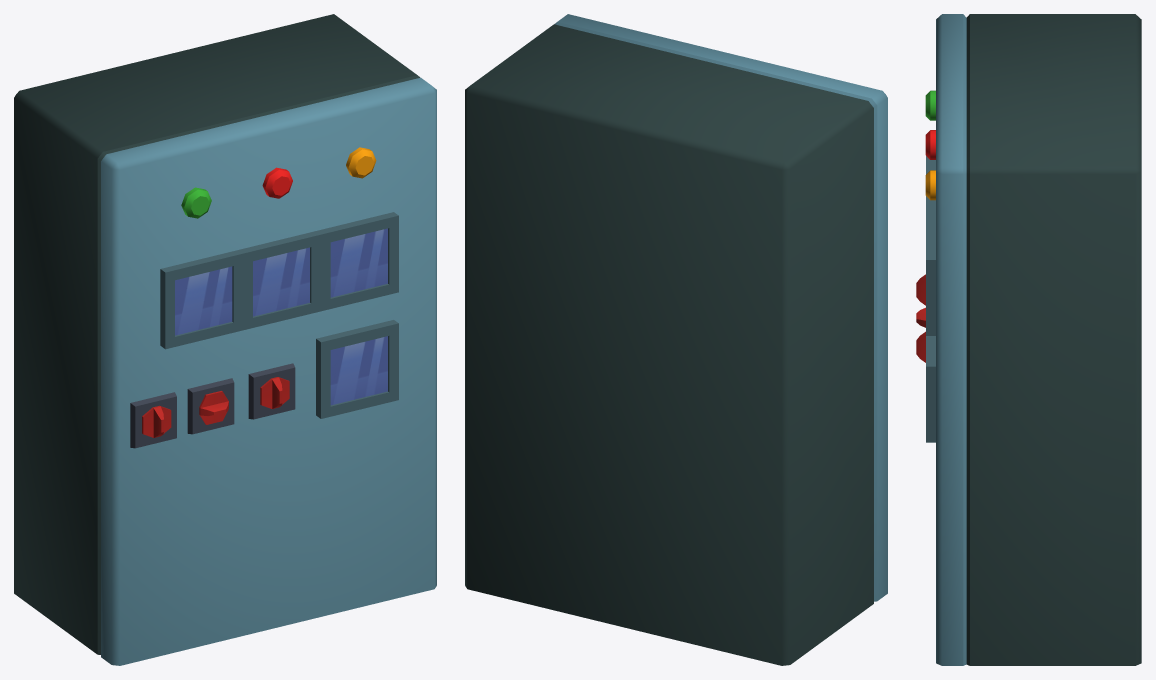
The model's file is ElectricBox_3_E_1.fbx.
3 views of the same model, side by side, from view 1: azimuth 30°, elevation 25°; view 2: azimuth 150°, elevation 25°; view 3: azimuth 270°, elevation 25° (orthographic).
Visible parts, largest first — view 1: ElectricBox_3_E_1; view 2: ElectricBox_3_E_1; view 3: ElectricBox_3_E_1.
Boxes of the visible parts, x1,y1,x2,y2 form: ElectricBox_3_E_1: (14, 14, 436, 665); ElectricBox_3_E_1: (465, 14, 887, 665); ElectricBox_3_E_1: (916, 14, 1141, 665).
Size of the model in its own units: 102 by 150 by 61.6.
